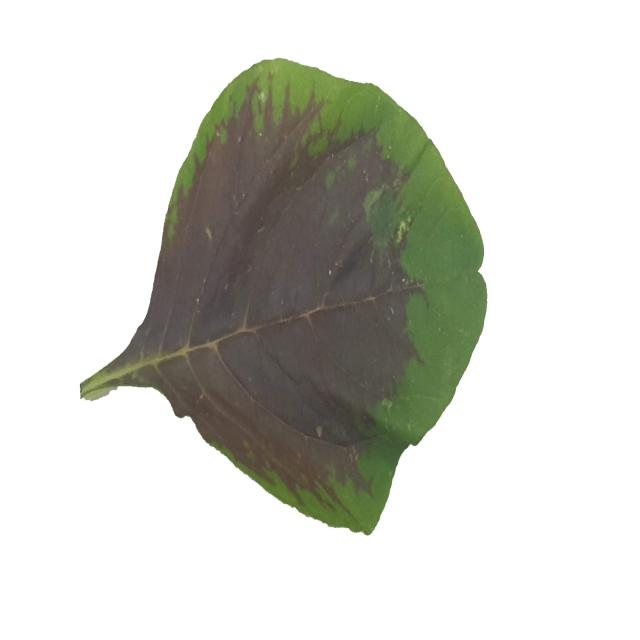Medicinal-Arive Dantu: (83, 52, 487, 544)
